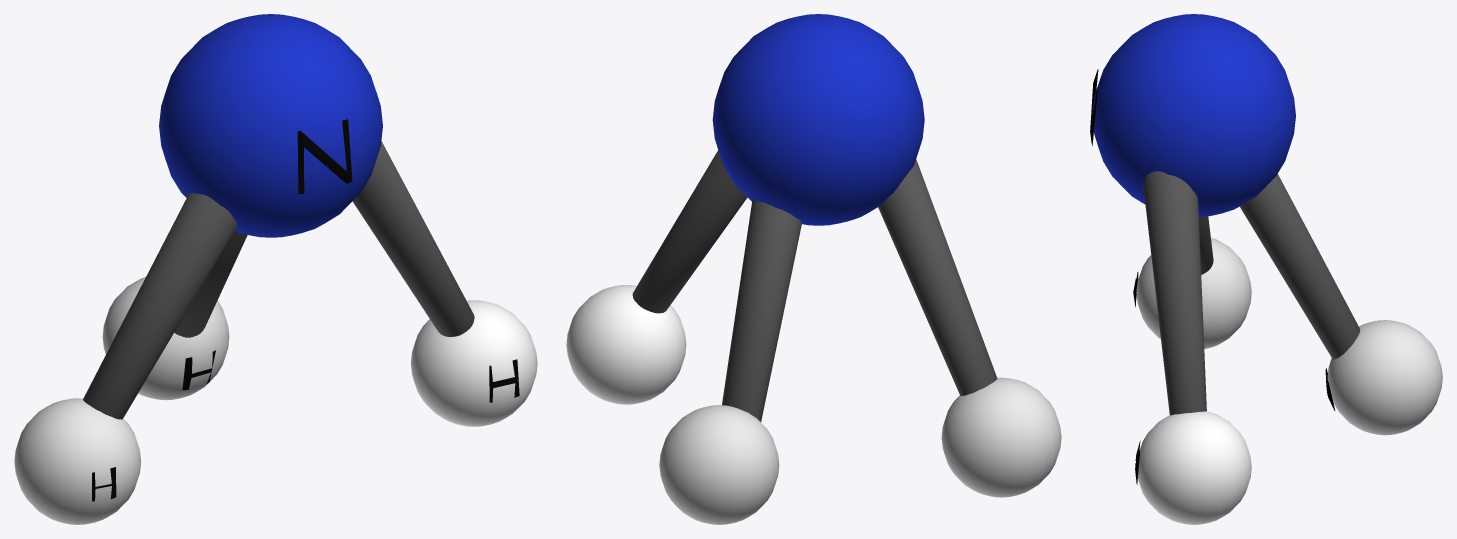
The picture shows the model from 3 angles, left to right: view 1: azimuth 30°, elevation 25°; view 2: azimuth 150°, elevation 25°; view 3: azimuth 270°, elevation 25°; orthographic projection. The views are drawn at different scales.
Parts seen in each view (by area): view 1: Sphere.017, Cylinder.012, 22, Sphere.015, Cylinder.013, Sphere.016, Cylinder.014, Text.017; view 2: Sphere.017, Sphere.016, 22, Sphere.015, Cylinder.012, Cylinder.014, Cylinder.013; view 3: Sphere.017, Cylinder.013, Sphere.015, Sphere.016, Cylinder.014, 22, Cylinder.012.
Part boxes in pixels (box(x1,y1,x2,y2)): Sphere.017: box(159, 14, 382, 237); Cylinder.012: box(83, 193, 236, 419); 22: box(14, 398, 141, 524); Sphere.015: box(410, 300, 537, 426); Cylinder.013: box(352, 141, 474, 336); Sphere.016: box(102, 277, 229, 400); Cylinder.014: box(174, 231, 247, 337); Text.017: box(297, 119, 352, 194); Sphere.017: box(712, 14, 924, 225); Sphere.016: box(659, 405, 779, 524); 22: box(941, 377, 1061, 497); Sphere.015: box(566, 285, 686, 404); Cylinder.012: box(878, 159, 997, 395); Cylinder.014: box(722, 199, 801, 421); Cylinder.013: box(632, 150, 747, 313); Sphere.017: box(1092, 14, 1295, 217); Cylinder.013: box(1143, 171, 1206, 415); Sphere.015: box(1138, 411, 1251, 524); Sphere.016: box(1327, 320, 1442, 435); Cylinder.014: box(1239, 174, 1360, 359); 22: box(1136, 238, 1251, 348); Cylinder.012: box(1199, 216, 1213, 274).
Bounding box in the file's own units: 276 × 233 × 183.
